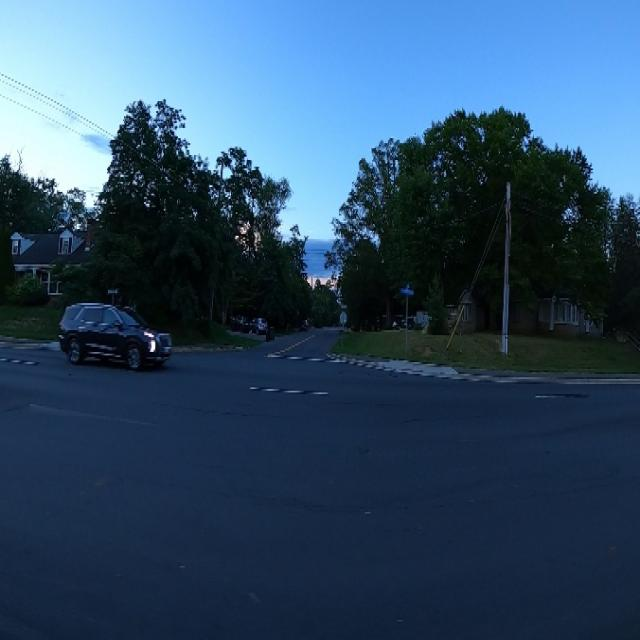cars: (58, 296, 175, 374), (249, 310, 272, 337)
